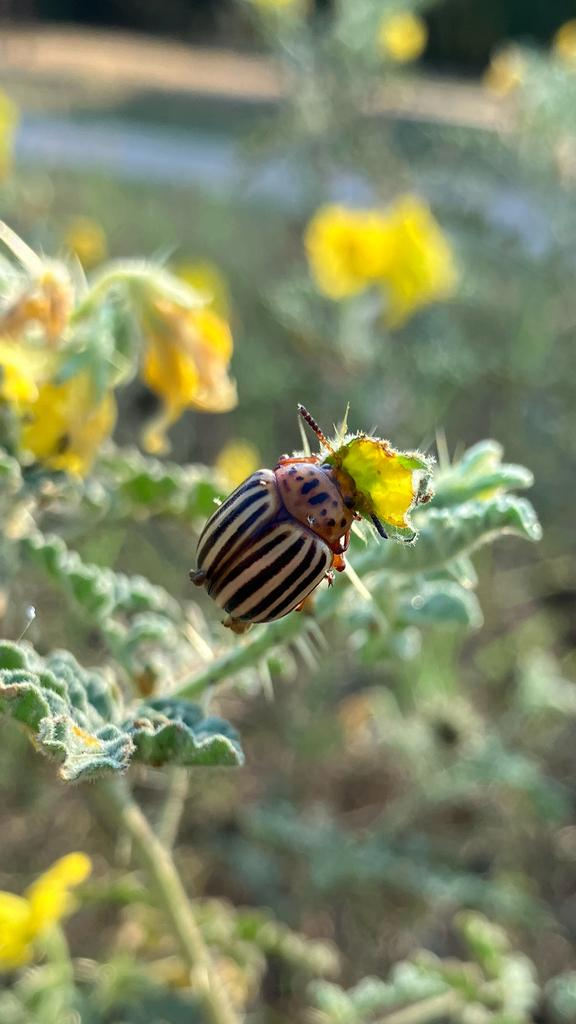potato_beetle: (143, 363, 418, 652)
